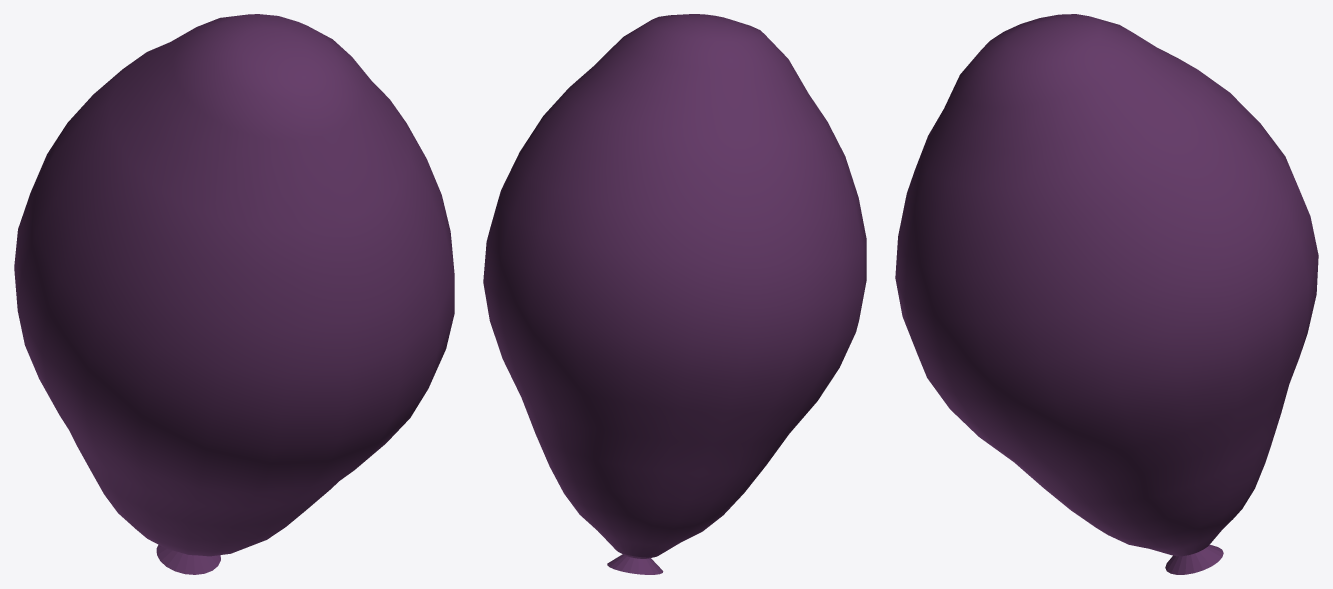
Rendered from Balloon2.fbx.
3 renders of one model, left to right at view 1: azimuth 30°, elevation 25°; view 2: azimuth 150°, elevation 25°; view 3: azimuth 270°, elevation 25°, orthographic. The views are drawn at different scales.
Parts seen in each view (by area): view 1: pSphere2; view 2: pSphere2; view 3: pSphere2.
Boxes of the visible parts, x1,y1,x2,y2 form: pSphere2: (14,14,454,574); pSphere2: (483,14,866,574); pSphere2: (895,14,1318,574).
Bounding box in the file's own units: 0.0275 × 0.0404 × 0.0287.
